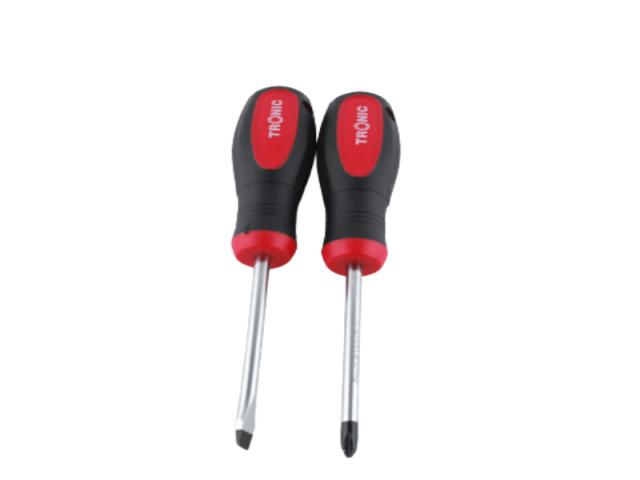Screwdriver: (231, 86, 316, 449), (318, 92, 400, 456)
